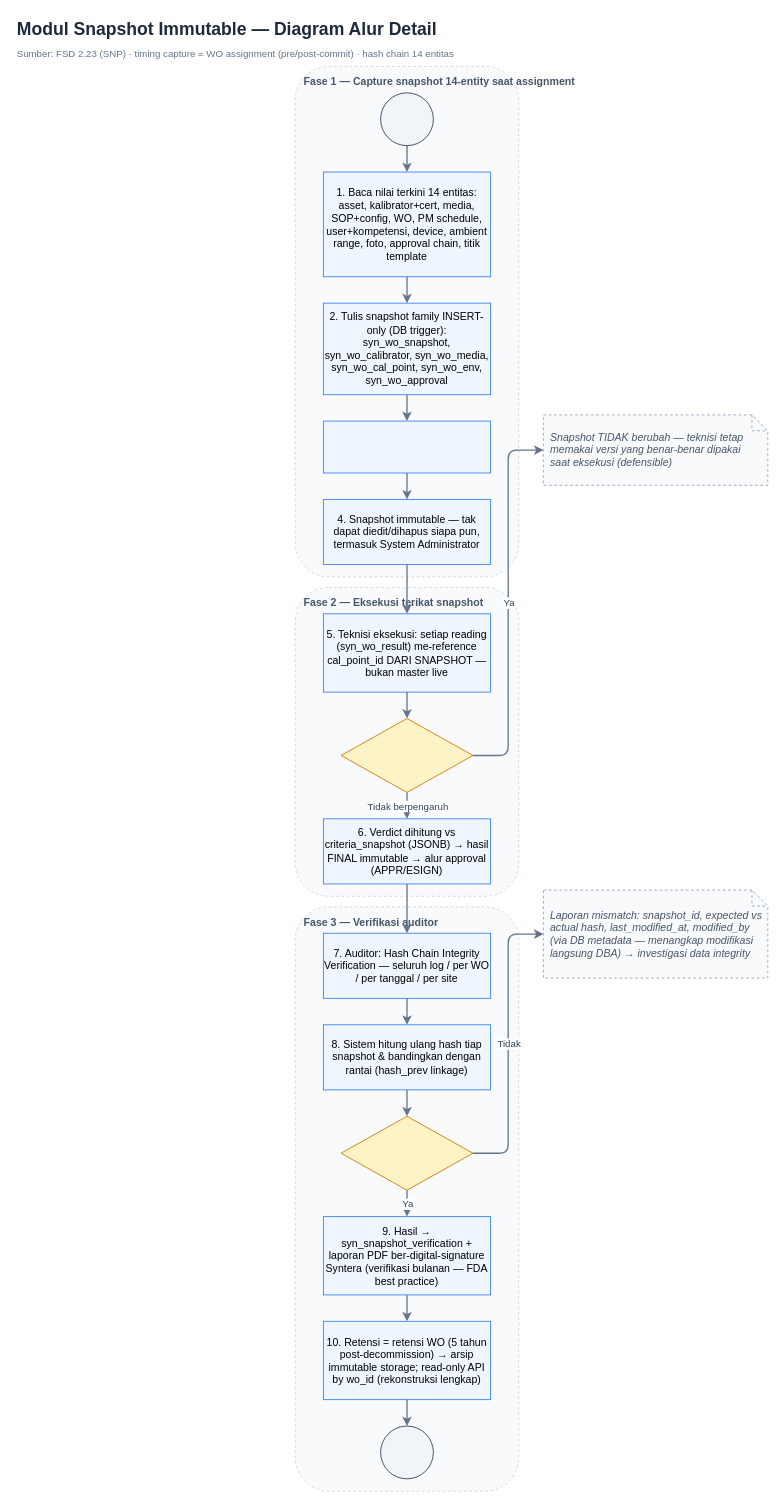
Some shapes in this 783 by 1507 pixel diagram are drawn without their labels. The shapes that lost their labels are listed below. From the top down, each one's centre as x and y in pixels, then its label:
the point at 406,119: Mulai (WO di-assign)
the point at 407,446: 3. Hash chain per baris: hash = SHA256(record_data ‖ hash_prev)
the point at 406,755: Master di-update mid-WO?
the point at 406,1152: Konsisten?
the point at 406,1452: Selesai
